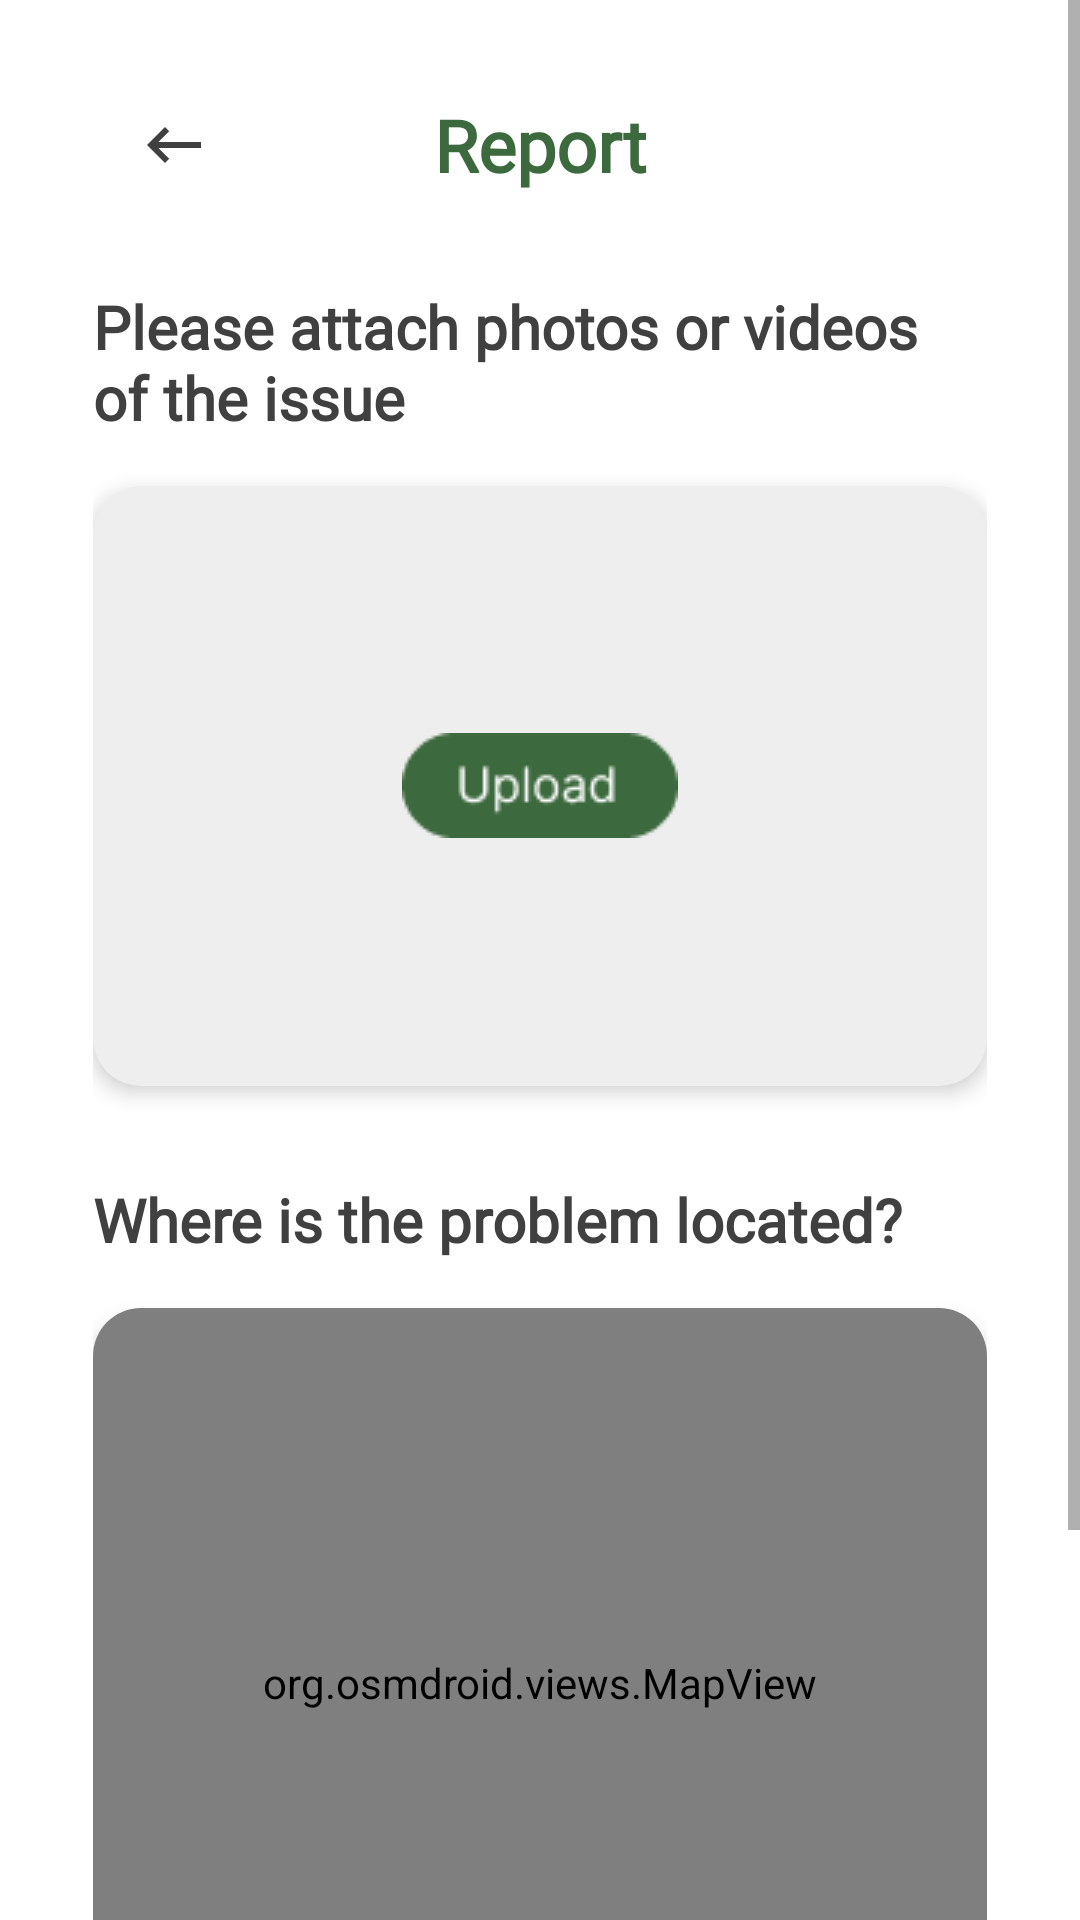

Named icons in this screenshot (1080 x 1920) and their centers, [x,y]:
back: [174,145]
